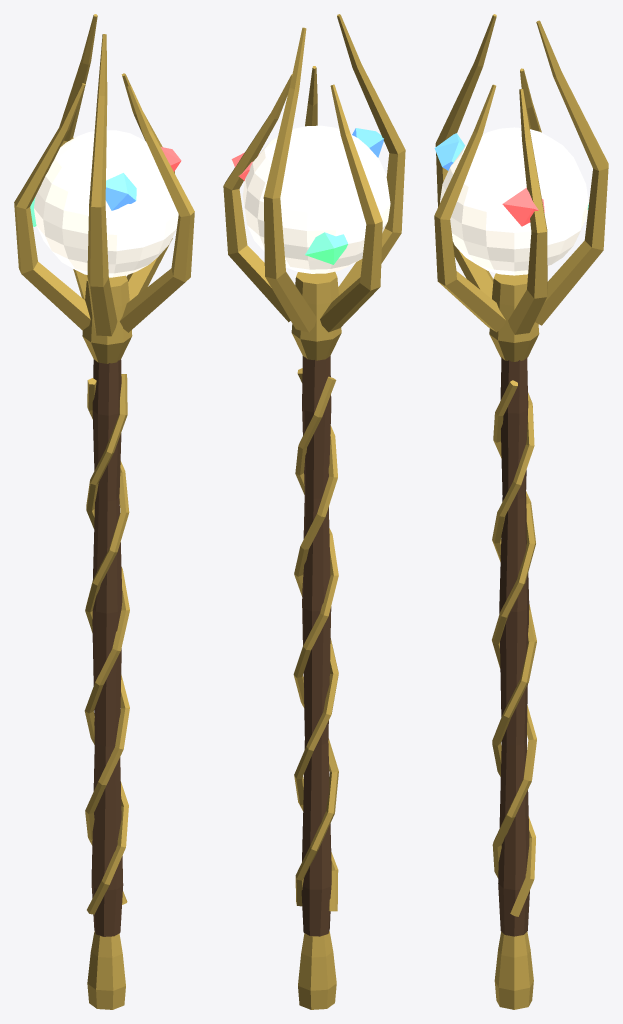
File: staff_opal.glb
3 views of the same model, side by side, from view 1: azimuth 30°, elevation 25°; view 2: azimuth 150°, elevation 25°; view 3: azimuth 270°, elevation 25° (orthographic).
Parts seen in each view (by area): view 1: Op_Shaft, Op_Orb, Op_Curl3, Op_Curl2, Op_Curl4, Op_Gold1, Op_Gold0, Op_Butt, Op_Neck, Op_Curl1, Op_Curl0, Op_Sheen2; view 2: Op_Shaft, Op_Orb, Op_Curl1, Op_Curl2, Op_Gold0, Op_Curl3, Op_Curl0, Op_Gold1, Op_Neck, Op_Butt, Op_Sheen1, Op_Curl4 (+1 smaller); view 3: Op_Orb, Op_Shaft, Op_Curl1, Op_Curl4, Op_Curl0, Op_Gold0, Op_Gold1, Op_Curl3, Op_Butt, Op_Neck, Op_Sheen0, Op_Sheen2 (+1 smaller).
Boxes of the visible parts, x1,y1,x2,y2 form: Op_Shaft: (91, 359, 123, 936); Op_Orb: (34, 130, 178, 277); Op_Curl3: (87, 34, 117, 336); Op_Curl2: (14, 83, 90, 330); Op_Curl4: (119, 85, 194, 332); Op_Gold1: (84, 374, 129, 914); Op_Gold0: (85, 378, 129, 904); Op_Butt: (87, 931, 125, 1009); Op_Neck: (82, 275, 132, 363); Op_Curl1: (59, 14, 97, 299); Op_Curl0: (121, 73, 174, 300); Op_Sheen2: (105, 173, 136, 210); Op_Shaft: (301, 356, 331, 936); Op_Orb: (242, 125, 390, 273); Op_Curl1: (263, 27, 316, 332); Op_Curl2: (320, 84, 382, 332); Op_Gold0: (293, 376, 338, 906); Op_Curl3: (337, 14, 405, 295); Op_Curl0: (223, 74, 292, 322); Op_Gold1: (294, 368, 338, 911); Op_Neck: (291, 271, 341, 360); Op_Butt: (298, 931, 336, 1009); Op_Sheen1: (305, 232, 347, 264); Op_Curl4: (305, 66, 317, 126); Op_Orb: (440, 127, 588, 275); Op_Shaft: (498, 357, 529, 936); Op_Curl1: (535, 20, 608, 325); Op_Curl4: (434, 84, 505, 332); Op_Curl0: (508, 89, 547, 334); Op_Gold0: (492, 392, 536, 916); Op_Gold1: (492, 380, 536, 878); Op_Curl3: (435, 14, 496, 298); Op_Butt: (494, 931, 533, 1009); Op_Neck: (489, 273, 539, 361); Op_Sheen0: (502, 187, 544, 226); Op_Sheen2: (434, 133, 465, 170).
Bounding box in the file's own units: 0.4171 × 2.48 × 0.3987.
